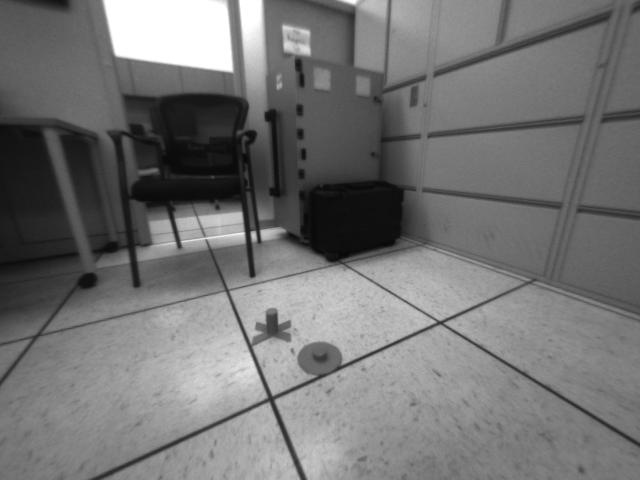X: (250, 305, 293, 347)
